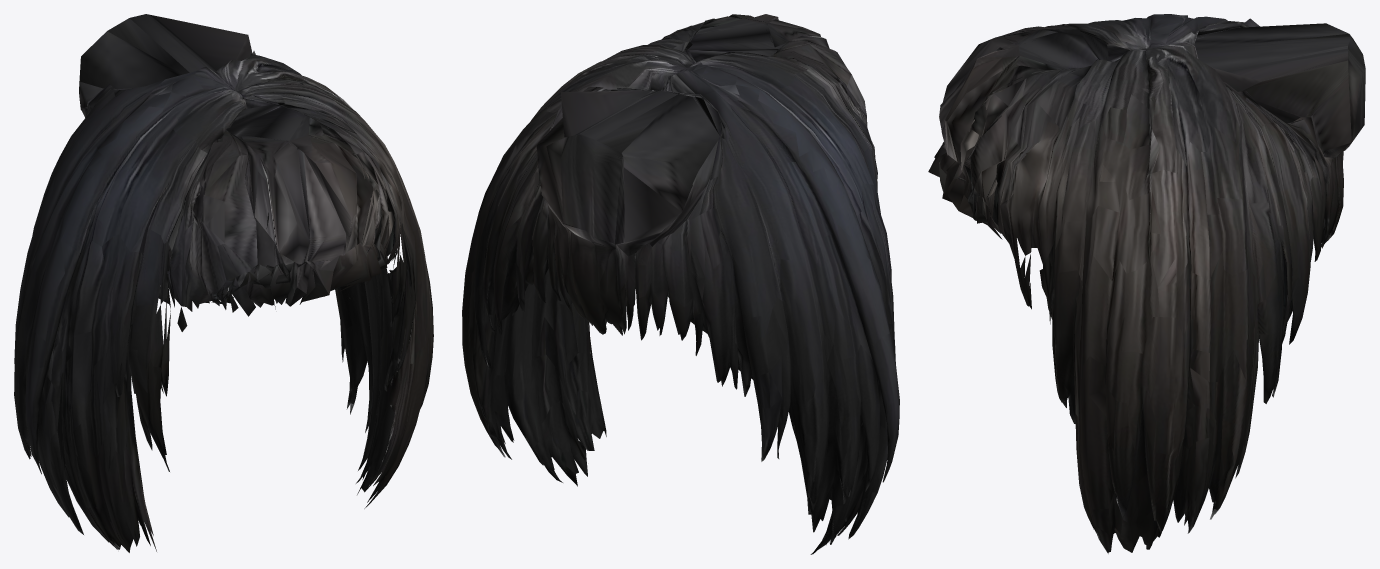
File: pelo_bob.glb
3 views of the same model, side by side, from view 1: azimuth 30°, elevation 25°; view 2: azimuth 150°, elevation 25°; view 3: azimuth 270°, elevation 25° (orthographic). The views are drawn at different scales.
Parts seen in each view (by area): view 1: pelo_bob; view 2: pelo_bob; view 3: pelo_bob.
Boxes of the visible parts, bbox=[...] form: pelo_bob: bbox=[14, 14, 433, 552]; pelo_bob: bbox=[462, 14, 899, 554]; pelo_bob: bbox=[928, 14, 1365, 553].
Bounding box in the file's own units: 0.273 × 0.2984 × 0.2542.
1 material, 1 textured.
